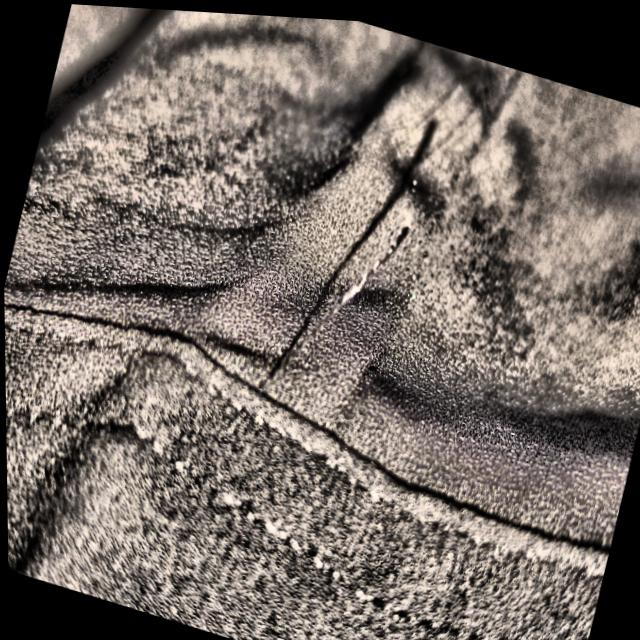Stitch: (303, 140, 470, 361)
